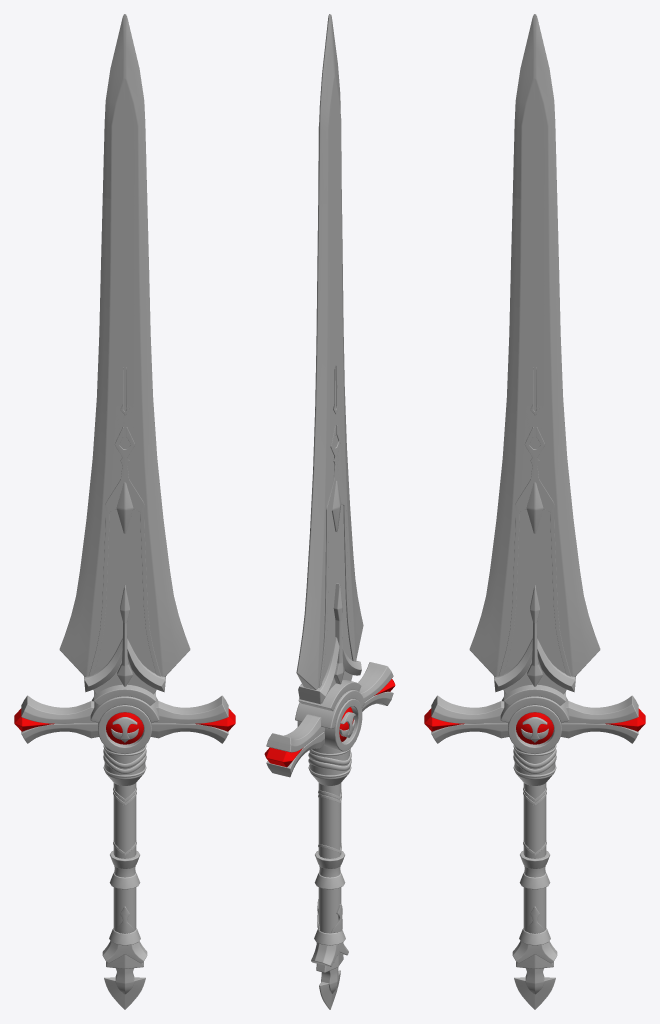
File: SwordZ.fbx
The picture shows the model from 3 angles, left to right: view 1: azimuth 90°, elevation 25°; view 2: azimuth 150°, elevation 25°; view 3: azimuth 270°, elevation 25°; orthographic projection.
Visible parts, largest first — view 1: polySurface29, polySurface21; view 2: polySurface29, polySurface21; view 3: polySurface29, polySurface21.
Boxes of the visible parts, x1,y1,x2,y2 form: polySurface29: (21,14,228,1009); polySurface21: (14,708,235,744); polySurface29: (266,14,393,1009); polySurface21: (264,679,395,767); polySurface29: (431,14,638,1009); polySurface21: (424,708,645,744).
Bounding box in the file's own units: 0.4288 × 9.35 × 1.88.
